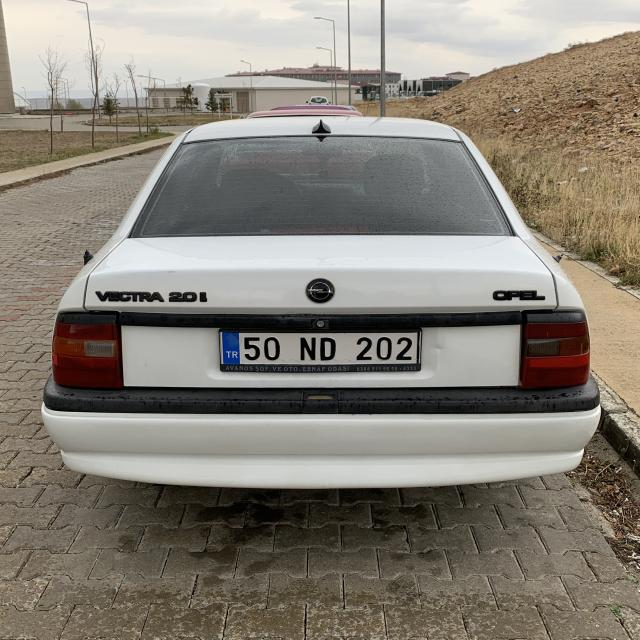license_plate: (220, 330, 420, 366)
